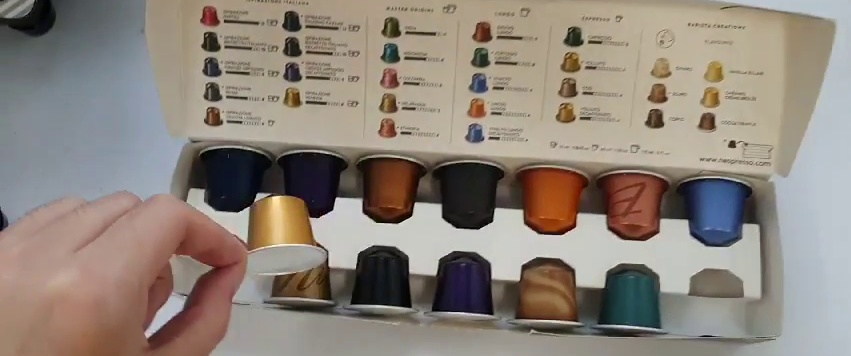capsule_8: (238, 195, 331, 279)
